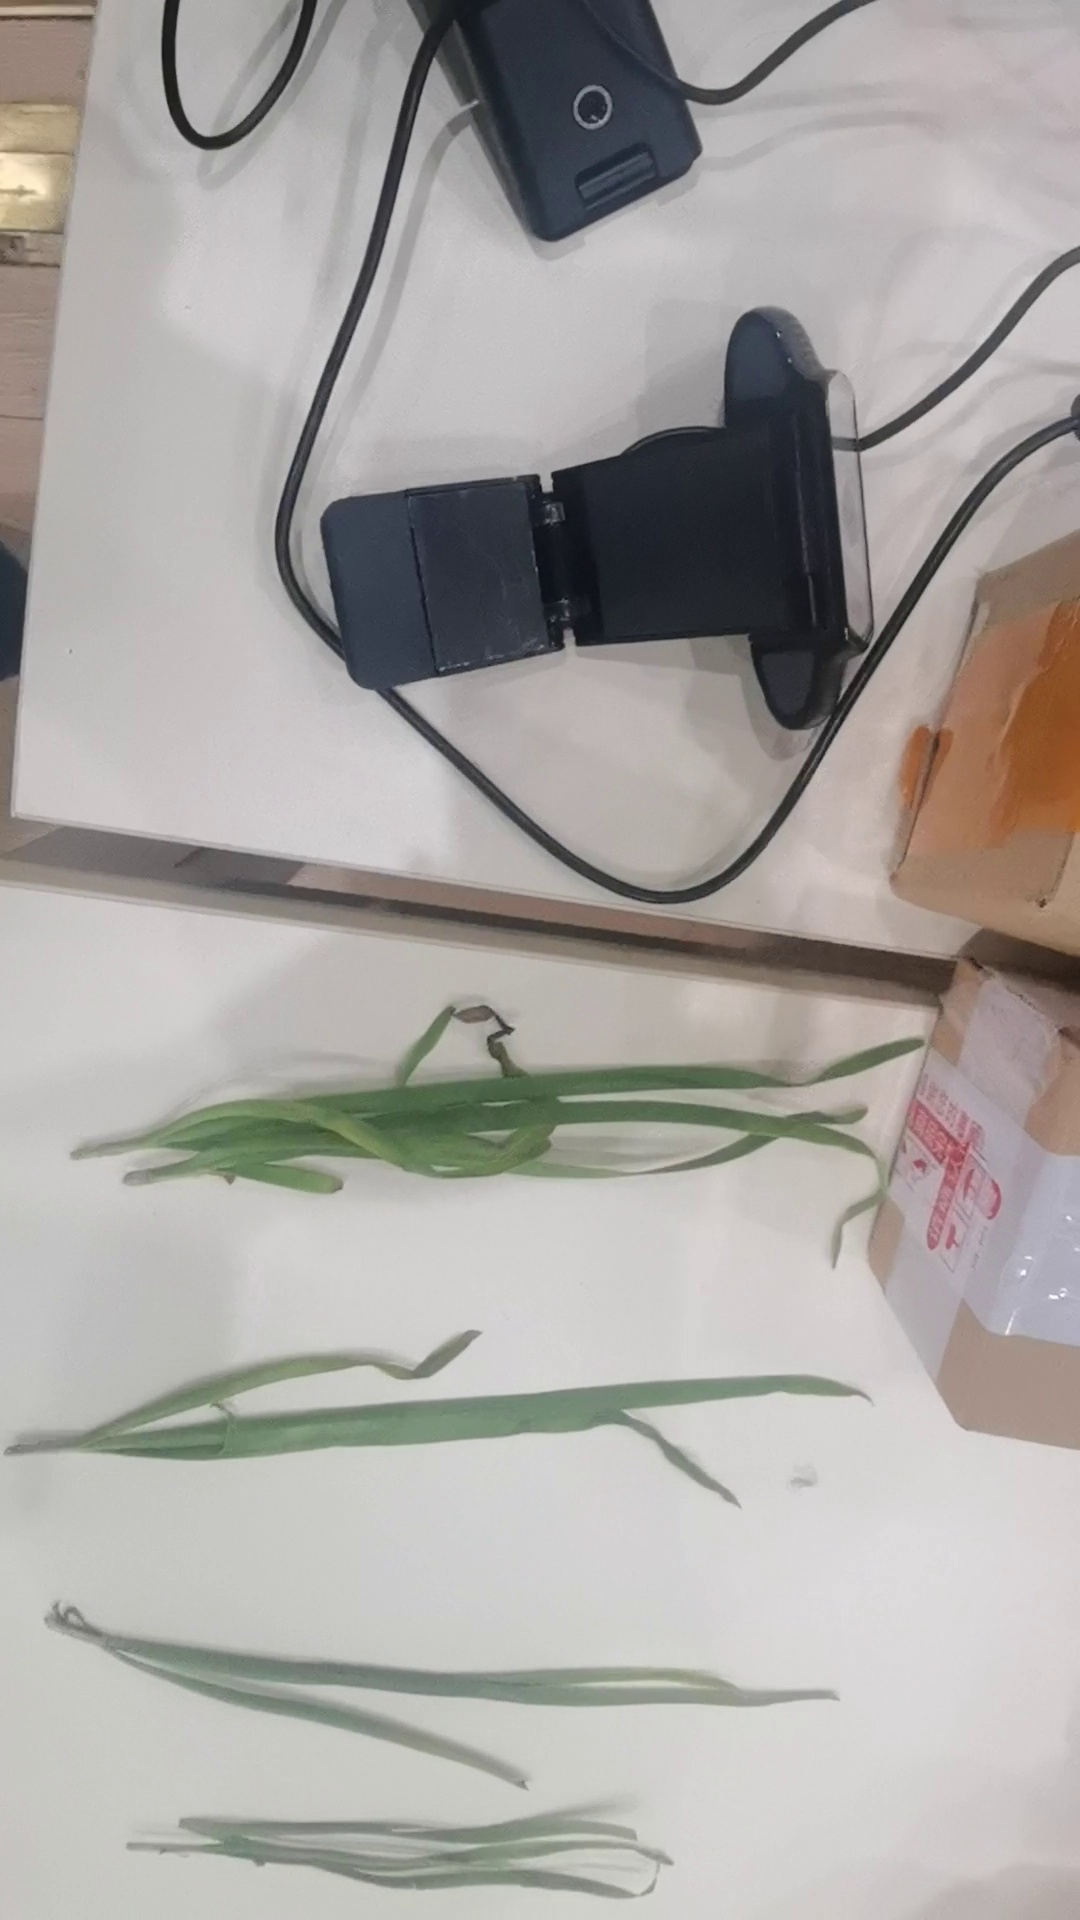chives: (75, 1000, 910, 1237), (44, 1325, 869, 1531), (40, 1580, 851, 1788), (156, 1756, 804, 1911)
